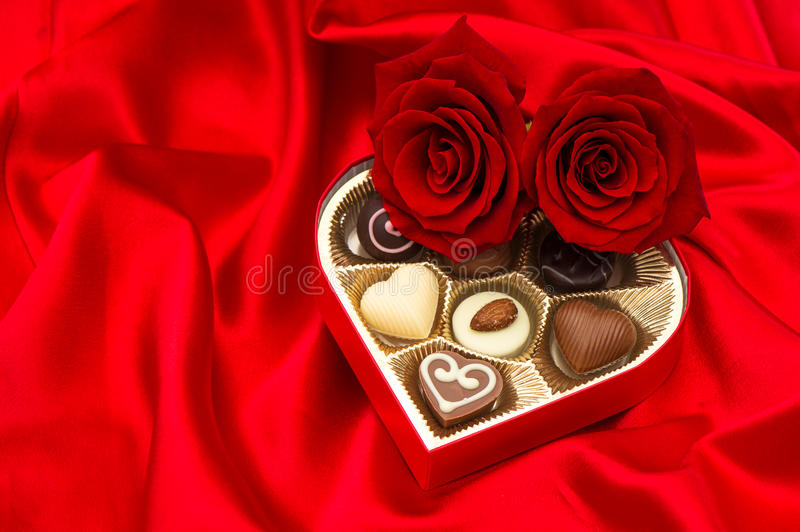RedRose: (545, 57, 701, 249), (395, 45, 521, 240)
